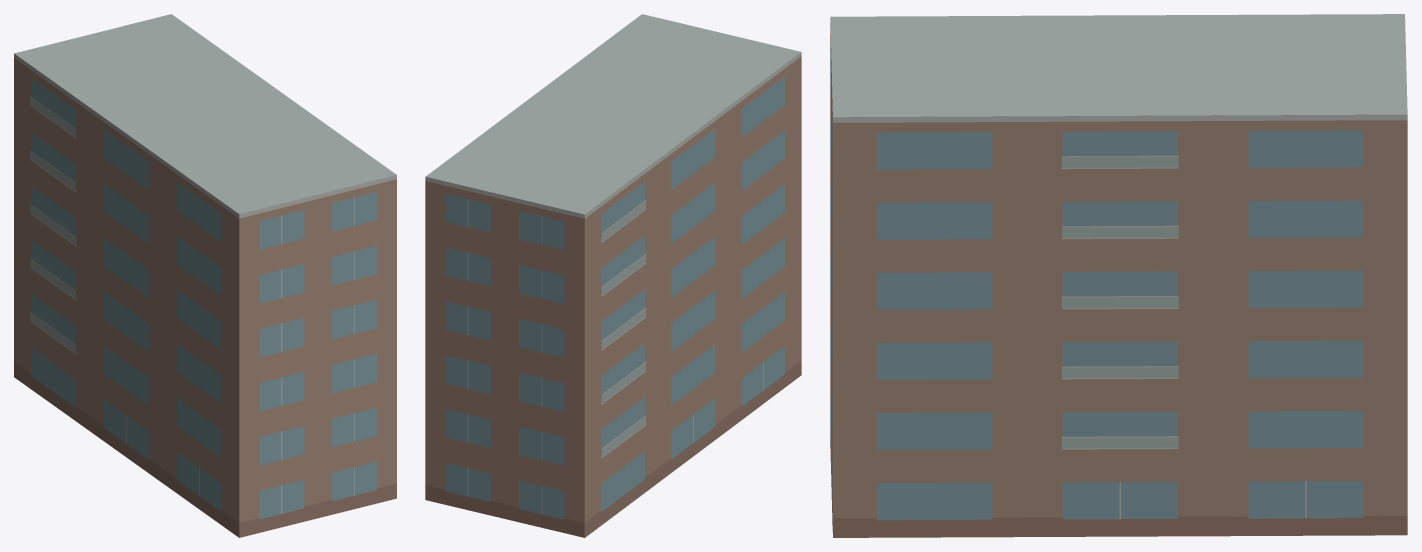
Rendered from survey-upis-32659352.glb.
3 views of the same model, side by side, from view 1: azimuth 30°, elevation 25°; view 2: azimuth 150°, elevation 25°; view 3: azimuth 270°, elevation 25° (orthographic). The views are drawn at different scales.
Visible parts, largest first — view 1: survey-upis-32659352.tmp; view 2: survey-upis-32659352.tmp; view 3: survey-upis-32659352.tmp.
Boxes of the visible parts, x1=… form: survey-upis-32659352.tmp: x1=14, y1=14, x2=396, y2=537; survey-upis-32659352.tmp: x1=425, y1=14, x2=801, y2=537; survey-upis-32659352.tmp: x1=830, y1=14, x2=1407, y2=537.
Size of the model in its own units: 9.65 by 18.3 by 22.77.
